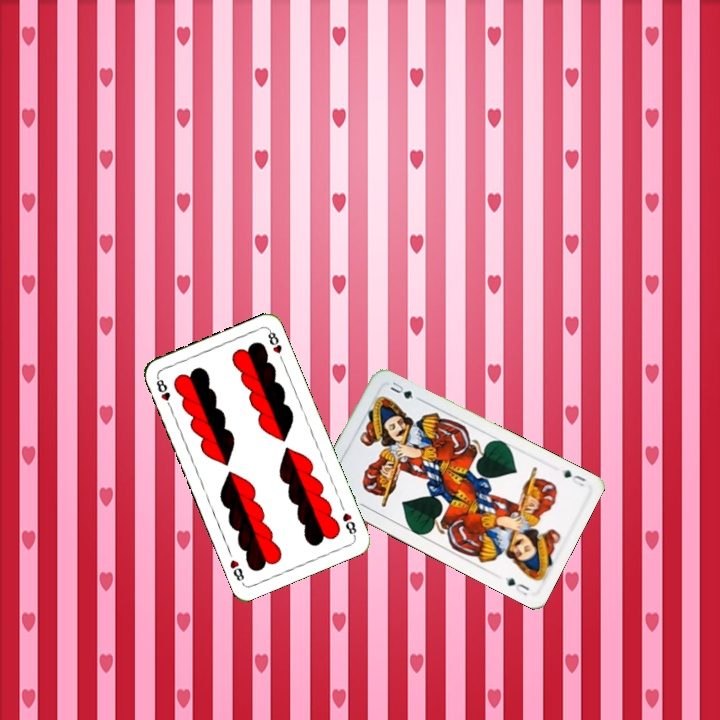GU: (557, 465, 588, 489)
H8: (152, 373, 175, 412), (338, 508, 359, 539)
